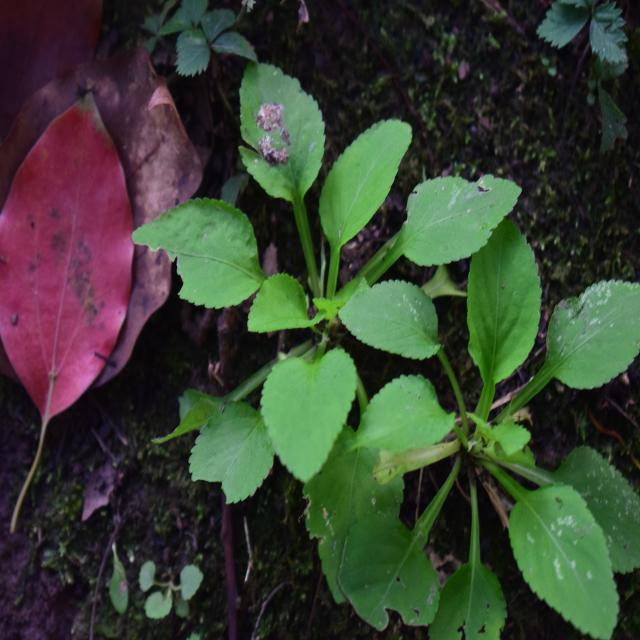Viola: (164, 97, 491, 460), (377, 202, 623, 628)
